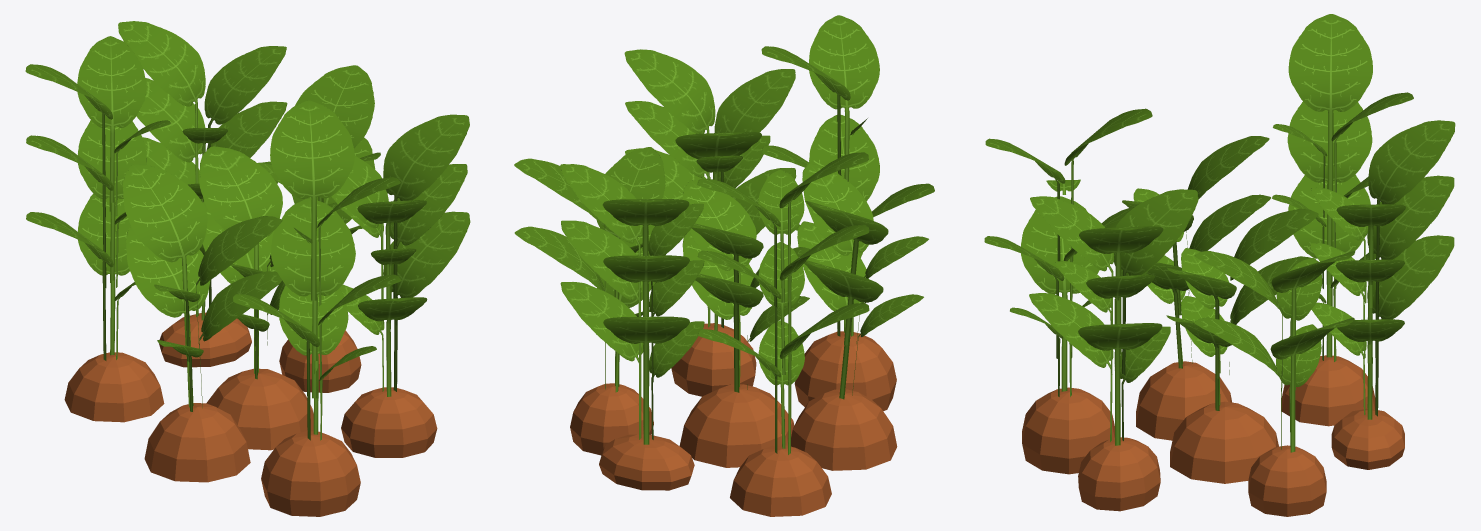
File: Adult_potato.fbx
3 renders of one model, left to right at view 1: azimuth 30°, elevation 25°; view 2: azimuth 150°, elevation 25°; view 3: azimuth 270°, elevation 25°, orthographic. The views are drawn at different scales.
Visible parts, largest first — view 1: Adult_Potoatos; view 2: Adult_Potoatos; view 3: Adult_Potoatos.
Part boxes in pixels (x1,y1,x2,y2): Adult_Potoatos: (25,21,470,516); Adult_Potoatos: (514,15,934,516); Adult_Potoatos: (984,14,1455,516).
Bounding box in the file's own units: 57.19 × 57.2 × 69.78.
Materials: 1 (1 with a texture image).
